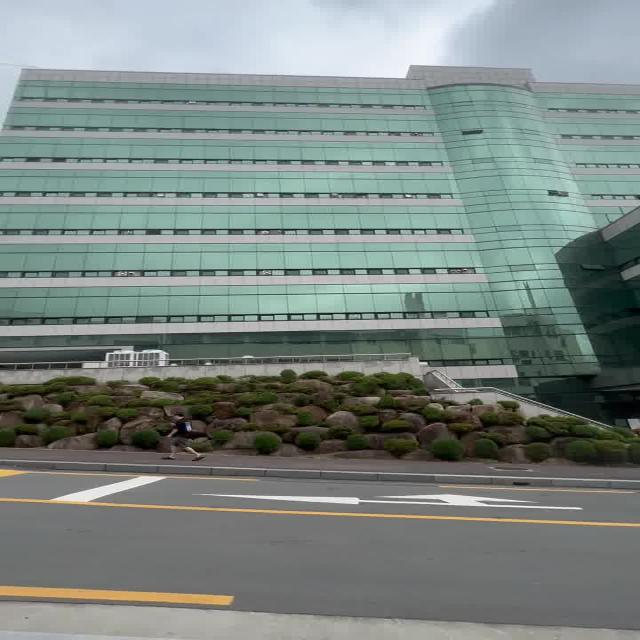building: (16, 67, 640, 348)
